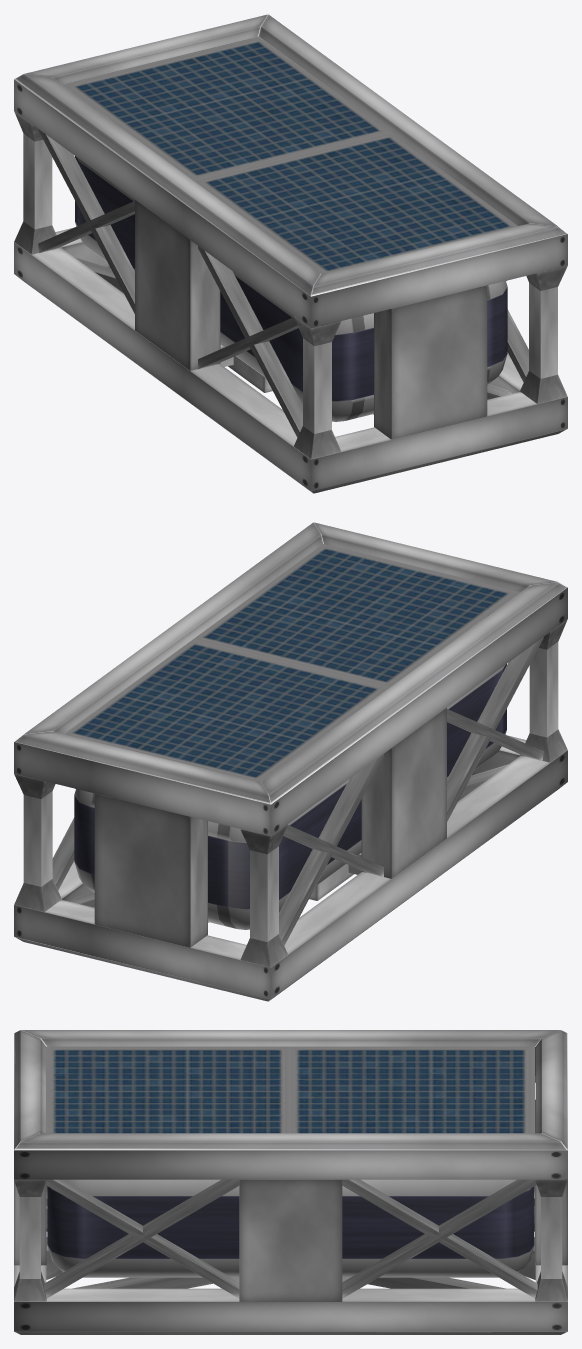
File: HalfChassis.FBX
3 renders of one model, top to bottom at view 1: azimuth 30°, elevation 25°; view 2: azimuth 150°, elevation 25°; view 3: azimuth 270°, elevation 25°, orthographic. The views are drawn at different scales.
Visible parts, largest first — view 1: Box001, Frame001, Frame002, SideHardpoint002, StorageTank001, SideHardpoint001, Pilar002, Pilar004, Bracing003, Pilar001, Bracing002, Bracing004 (+4 smaller); view 2: Box001, Frame001, Frame002, SideHardpoint004, StorageTank001, SideHardpoint001, Pilar001, Pilar003, Bracing001, Pilar002, Bracing004, Bracing002 (+4 smaller); view 3: Box001, Frame001, StorageTank001, Frame002, SideHardpoint003, Bracing007, Bracing005, Bracing006, Bracing008, Pilar003, Pilar004, Bracing022 (+3 smaller).
Part boxes in pixels (<box>): Box001: <box>62,36,517,273</box>; Frame001: <box>14,14,567,328</box>; Frame002: <box>14,228,567,493</box>; SideHardpoint002: <box>374,285,487,439</box>; StorageTank001: <box>75,121,507,421</box>; SideHardpoint001: <box>135,200,220,370</box>; Pilar002: <box>293,316,341,459</box>; Pilar004: <box>520,266,567,403</box>; Bracing003: <box>198,246,302,437</box>; Pilar001: <box>14,111,61,254</box>; Bracing002: <box>38,129,134,313</box>; Bracing004: <box>198,317,298,369</box>; Box001: <box>64,544,519,781</box>; Frame001: <box>14,522,567,836</box>; Frame002: <box>14,736,567,1001</box>; SideHardpoint004: <box>94,793,207,947</box>; StorageTank001: <box>74,629,506,929</box>; SideHardpoint001: <box>361,708,446,878</box>; Pilar001: <box>240,824,287,967</box>; Pilar003: <box>14,774,61,911</box>; Bracing001: <box>279,754,383,945</box>; Pilar002: <box>520,619,567,762</box>; Bracing004: <box>447,637,543,821</box>; Bracing002: <box>283,825,383,877</box>; Box001: <box>46,1046,534,1133</box>; Frame001: <box>14,1030,567,1179</box>; StorageTank001: <box>47,1179,534,1277</box>; Frame002: <box>14,1195,567,1334</box>; SideHardpoint003: <box>239,1179,342,1301</box>; Bracing007: <box>44,1179,248,1298</box>; Bracing005: <box>342,1179,544,1298</box>; Bracing006: <box>333,1179,537,1298</box>; Bracing008: <box>37,1179,239,1298</box>; Pilar003: <box>535,1179,567,1301</box>; Pilar004: <box>14,1179,46,1301</box>; Bracing022: <box>72,1206,534,1288</box>.
Bounding box in the file's own units: 0.4226 × 0.326 × 0.8462.
